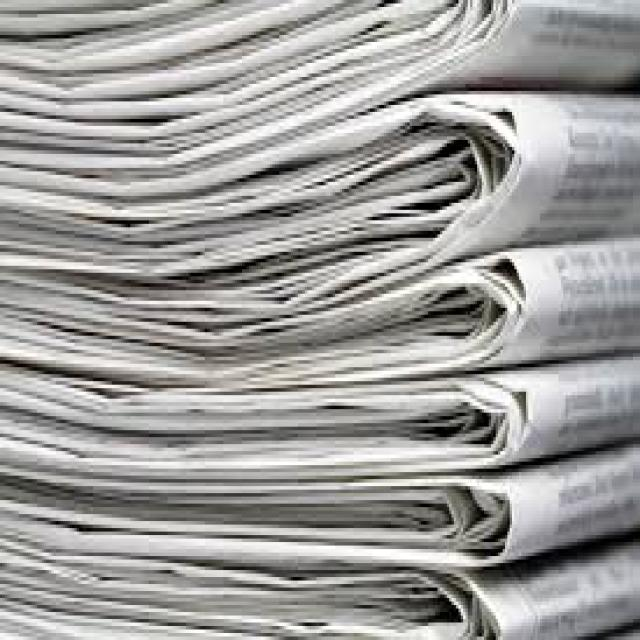paper: (0, 0, 638, 637), (0, 87, 638, 287), (0, 242, 638, 368), (0, 353, 638, 469), (0, 472, 638, 570), (0, 0, 637, 87), (0, 570, 638, 637)
